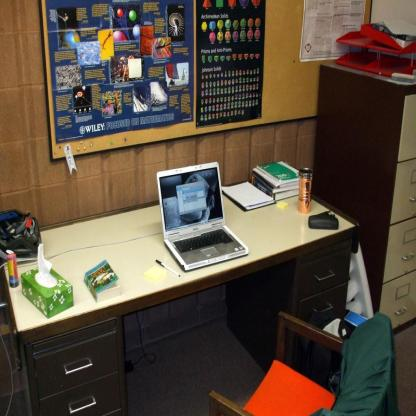board: (154, 159, 235, 272)
